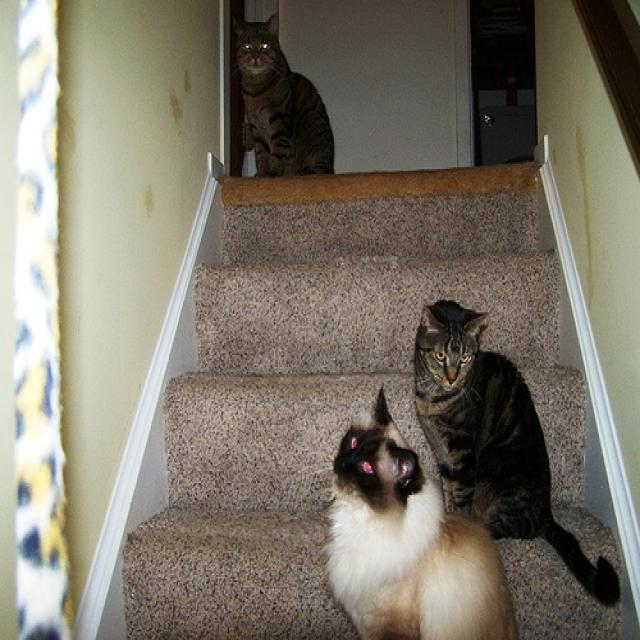cat: (412, 296, 622, 610), (327, 382, 522, 638), (227, 5, 336, 176)
